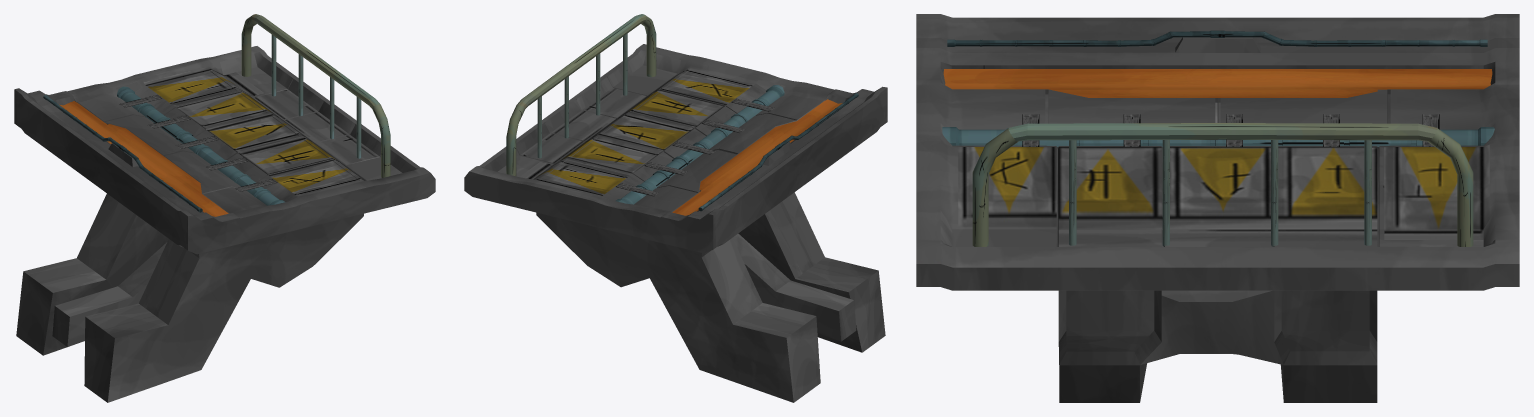
The model's file is RailingObject.FBX.
3 renders of one model, left to right at view 1: azimuth 30°, elevation 25°; view 2: azimuth 150°, elevation 25°; view 3: azimuth 270°, elevation 25°, orthographic. The views are drawn at different scales.
Visible parts, largest first — view 1: Cylinder005, Plane002, Cylinder007, Cylinder001, Box007, Cylinder003; view 2: Cylinder005, Plane002, Cylinder007, Cylinder001, Box007, Cylinder003; view 3: Cylinder005, Plane002, Cylinder007, Cylinder003, Cylinder001, Box007, Cylinder009, Cylinder010, Cylinder008, Cylinder011.
Boxes of the visible parts, left/top/right/bottom form: Cylinder005: left=14, top=46, right=435, bottom=402; Plane002: left=59, top=101, right=228, bottom=216; Cylinder007: left=241, top=14, right=390, bottom=177; Cylinder001: left=117, top=86, right=285, bottom=205; Box007: left=119, top=95, right=277, bottom=191; Cylinder003: left=43, top=95, right=202, bottom=212; Cylinder005: left=464, top=44, right=887, bottom=402; Plane002: left=672, top=99, right=842, bottom=215; Cylinder007: left=506, top=14, right=656, bottom=176; Cylinder001: left=615, top=85, right=784, bottom=204; Box007: left=616, top=98, right=774, bottom=196; Cylinder003: left=698, top=93, right=858, bottom=211; Cylinder005: left=916, top=14, right=1519, bottom=402; Plane002: left=943, top=69, right=1492, bottom=97; Cylinder007: left=972, top=123, right=1473, bottom=246; Cylinder003: left=947, top=30, right=1487, bottom=46; Cylinder001: left=942, top=127, right=1494, bottom=146; Box007: left=1022, top=114, right=1439, bottom=146; Cylinder009: left=1162, top=140, right=1169, bottom=246; Cylinder010: left=1271, top=140, right=1278, bottom=246; Cylinder008: left=1069, top=140, right=1076, bottom=245; Cylinder011: left=1364, top=140, right=1371, bottom=245.
Size of the model in its own units: 110 by 113 by 89.74.
Materials: 7 (7 with a texture image).
